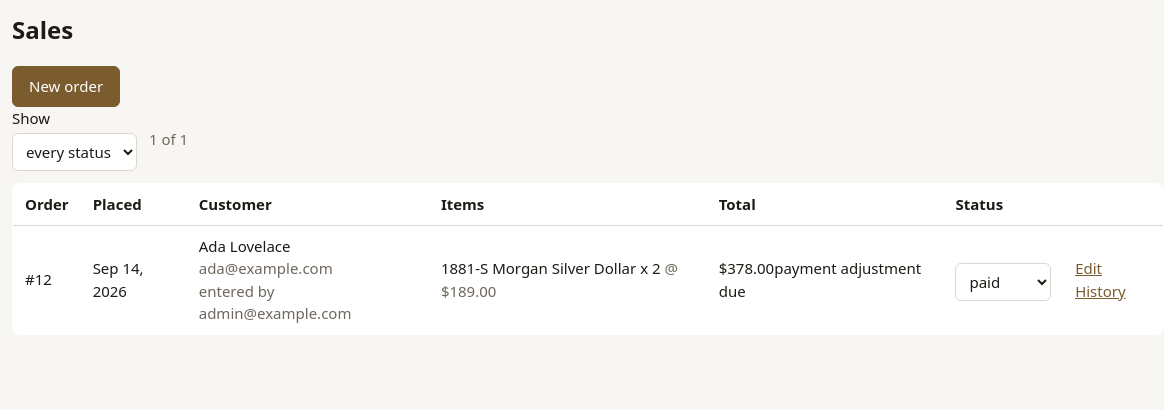
it: owner Orders › says why cancelling a shop order whose listing has ended is refused
The width and height of the screenshot is (1164, 410).
Expected: the text "Ada Lovelace" is shown, [199,236,290,256]
Select "cancelled" in the dropdown named "Status of order 12" at [1003, 282], box [956,262,1051,300]
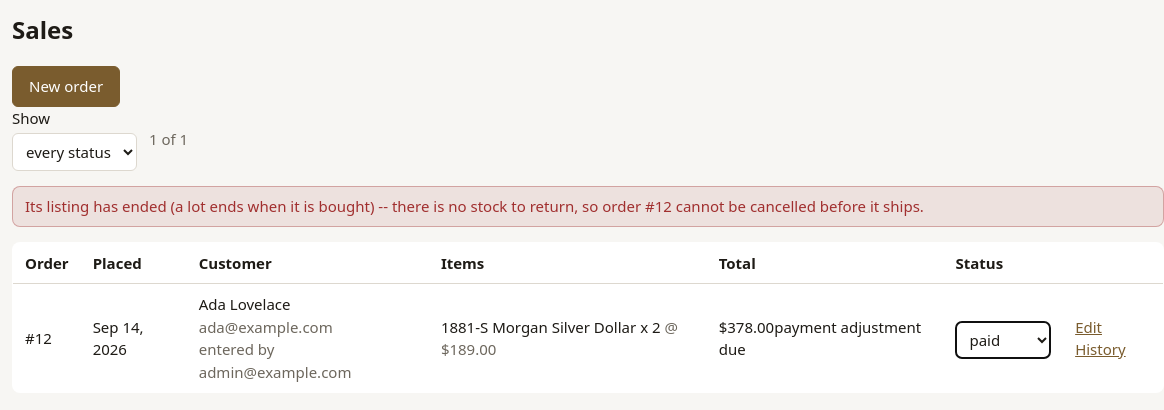
Now the text "listing has ended" is shown, box [25,196,924,216]
